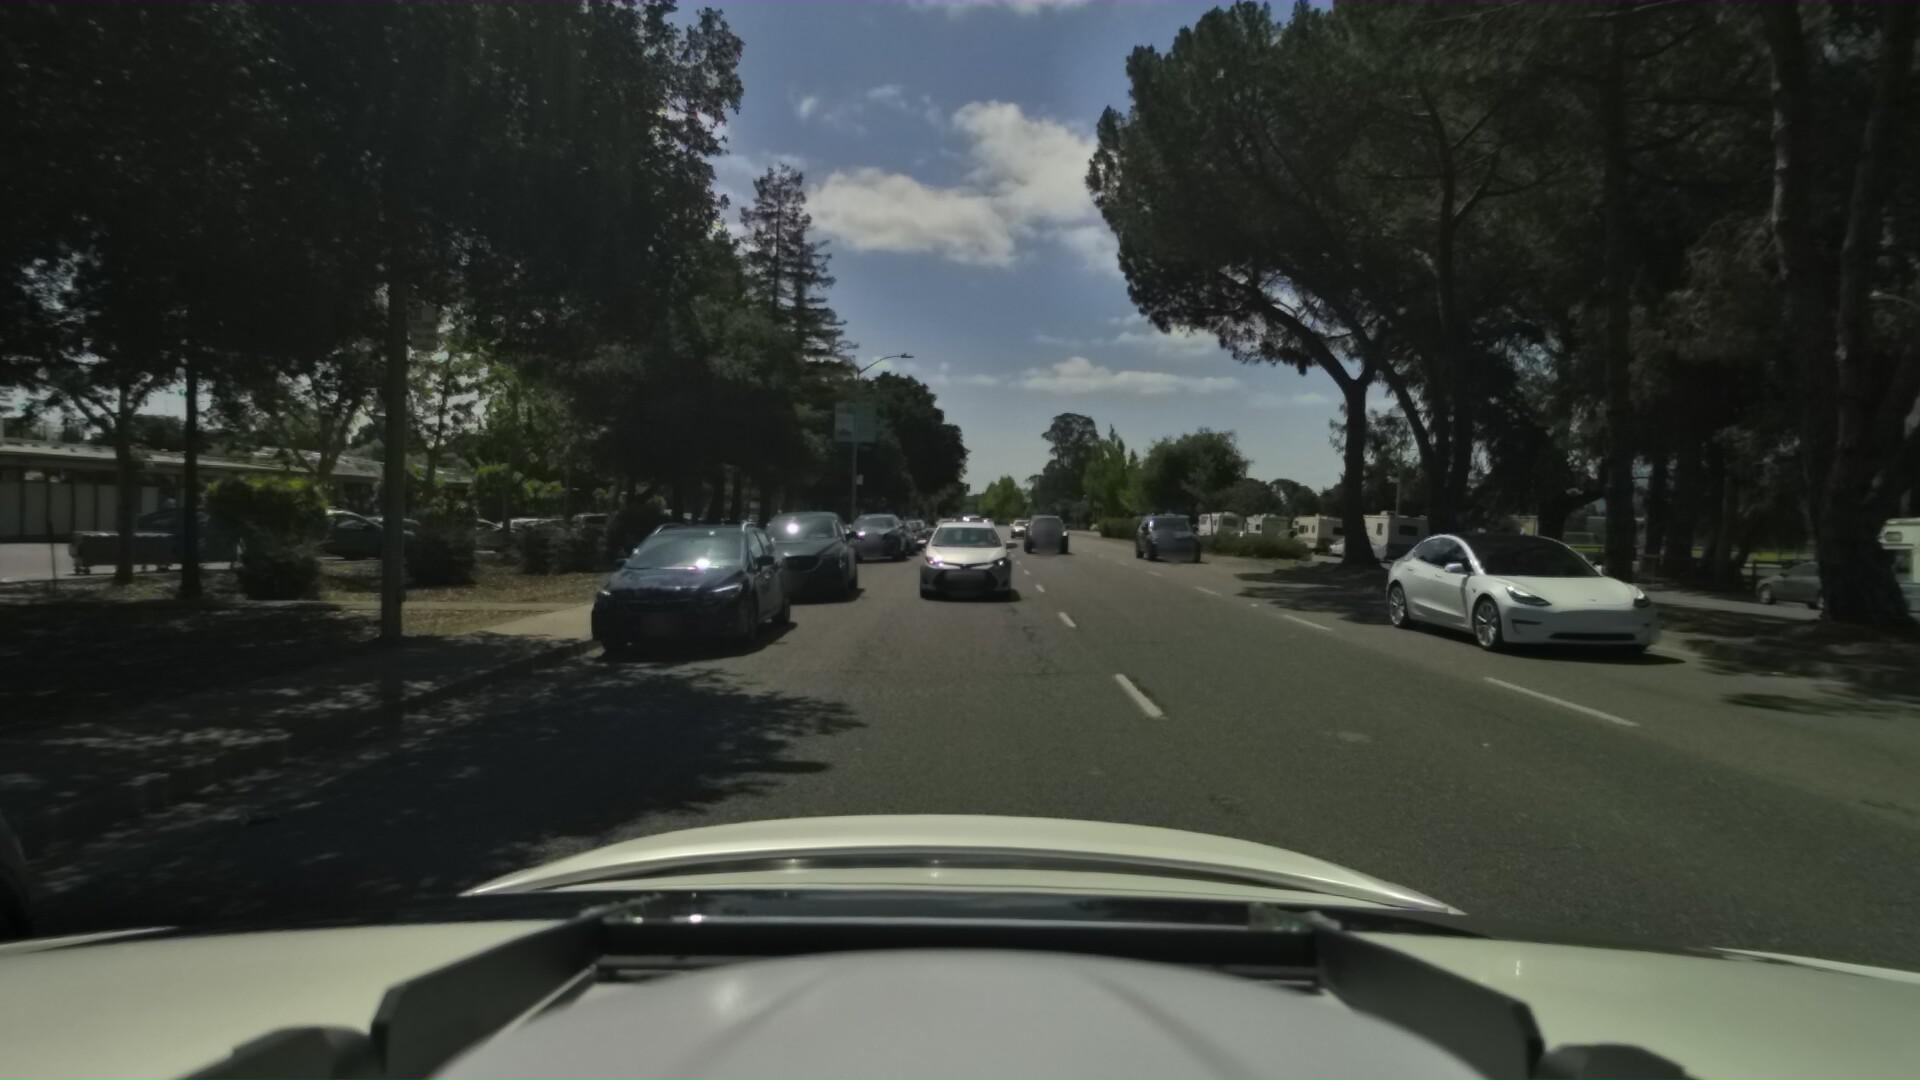car: (1335, 516, 1611, 653), (585, 510, 814, 658), (746, 502, 872, 601), (1722, 549, 1880, 613), (911, 512, 1015, 603), (1523, 542, 1619, 582), (1480, 531, 1565, 575), (1126, 506, 1197, 556), (847, 506, 911, 559), (866, 513, 920, 554), (923, 508, 969, 550), (1021, 508, 1067, 549), (890, 512, 931, 545), (1319, 530, 1370, 554), (1006, 512, 1033, 535)
other_vehicle: (1817, 488, 1920, 655), (1332, 500, 1429, 564), (1282, 504, 1349, 554)
